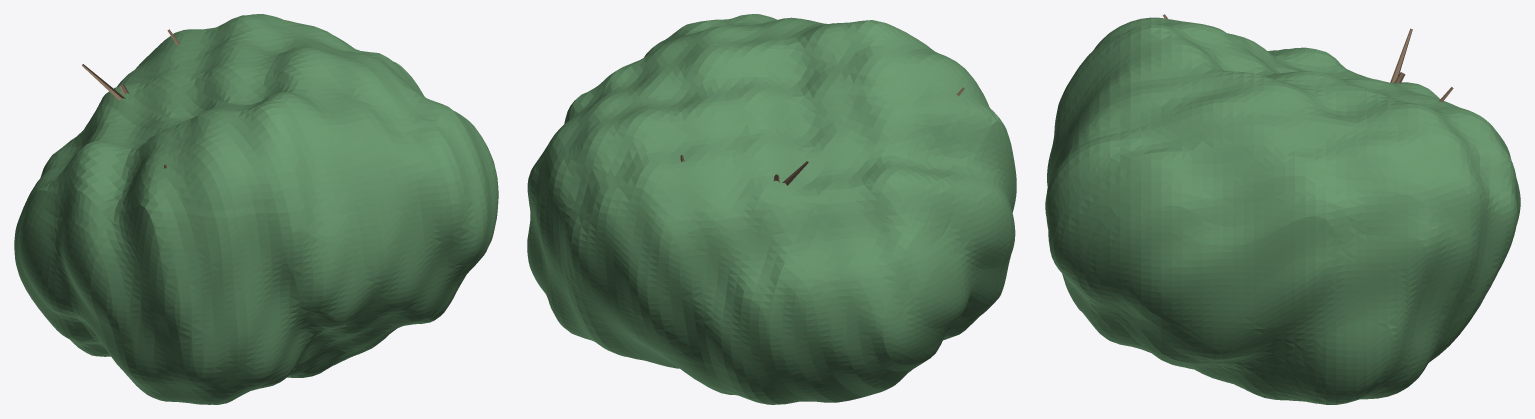
File: taiga_bush.glb
3 views of the same model, side by side, from view 1: azimuth 30°, elevation 25°; view 2: azimuth 150°, elevation 25°; view 3: azimuth 270°, elevation 25° (orthographic). The views are drawn at different scales.
Visible parts, largest first — view 1: taiga_bush; view 2: taiga_bush; view 3: taiga_bush.
Part boxes in pixels (x1=…): taiga_bush: x1=14, y1=14, x2=498, y2=404; taiga_bush: x1=527, y1=14, x2=1016, y2=404; taiga_bush: x1=1045, y1=14, x2=1520, y2=404.
Size of the model in its own units: 2.09 by 1.43 by 2.1.
